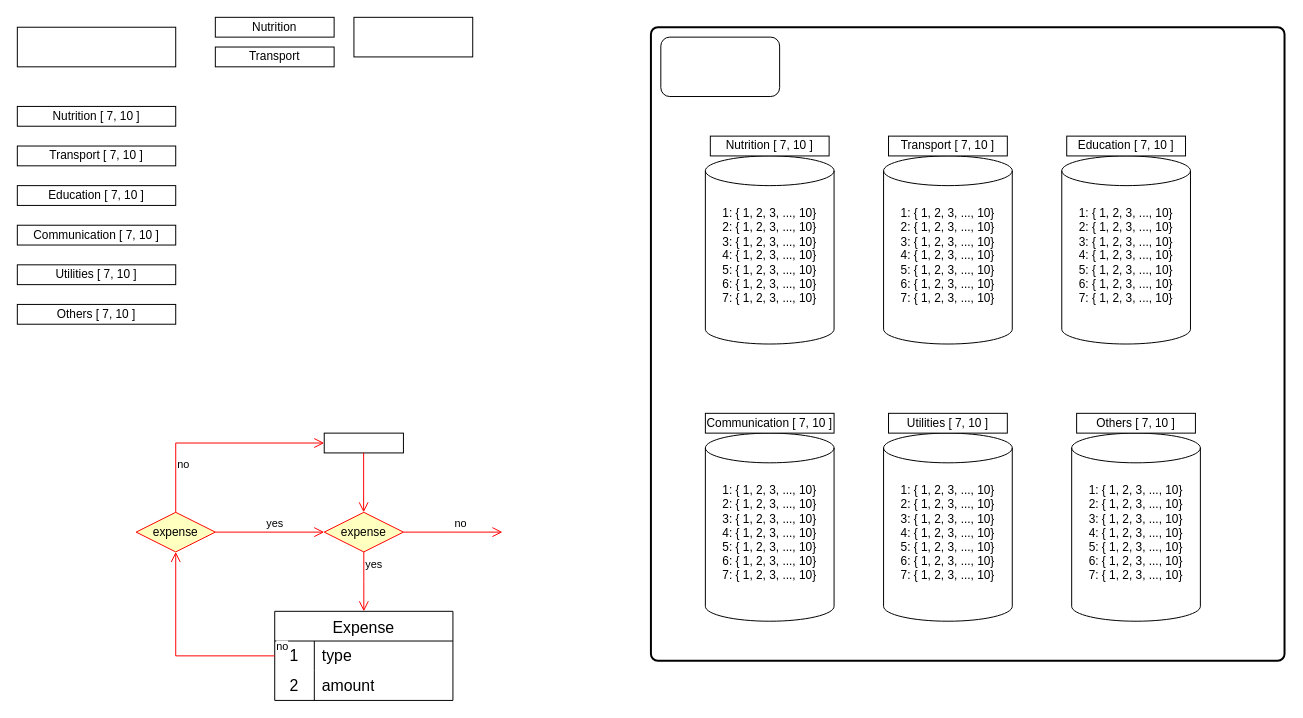
This 1303x718 diagram has some shape labels left out. Each missing label, with the centre of its shape:
"EXPENSES" goes at [720,66].
"Monday" goes at [413,36].
"numberOfDay" goes at [363,442].
"WEEKDAYS[7]" goes at [96,46].
